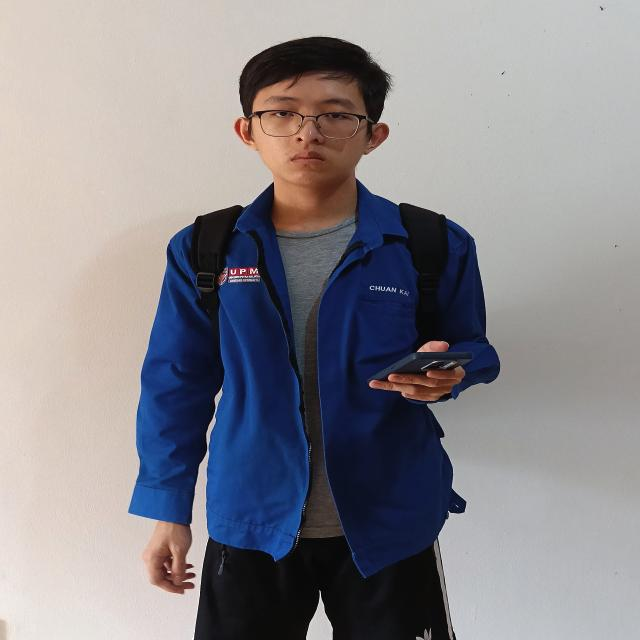person_with_labcoat: (129, 37, 499, 640)
